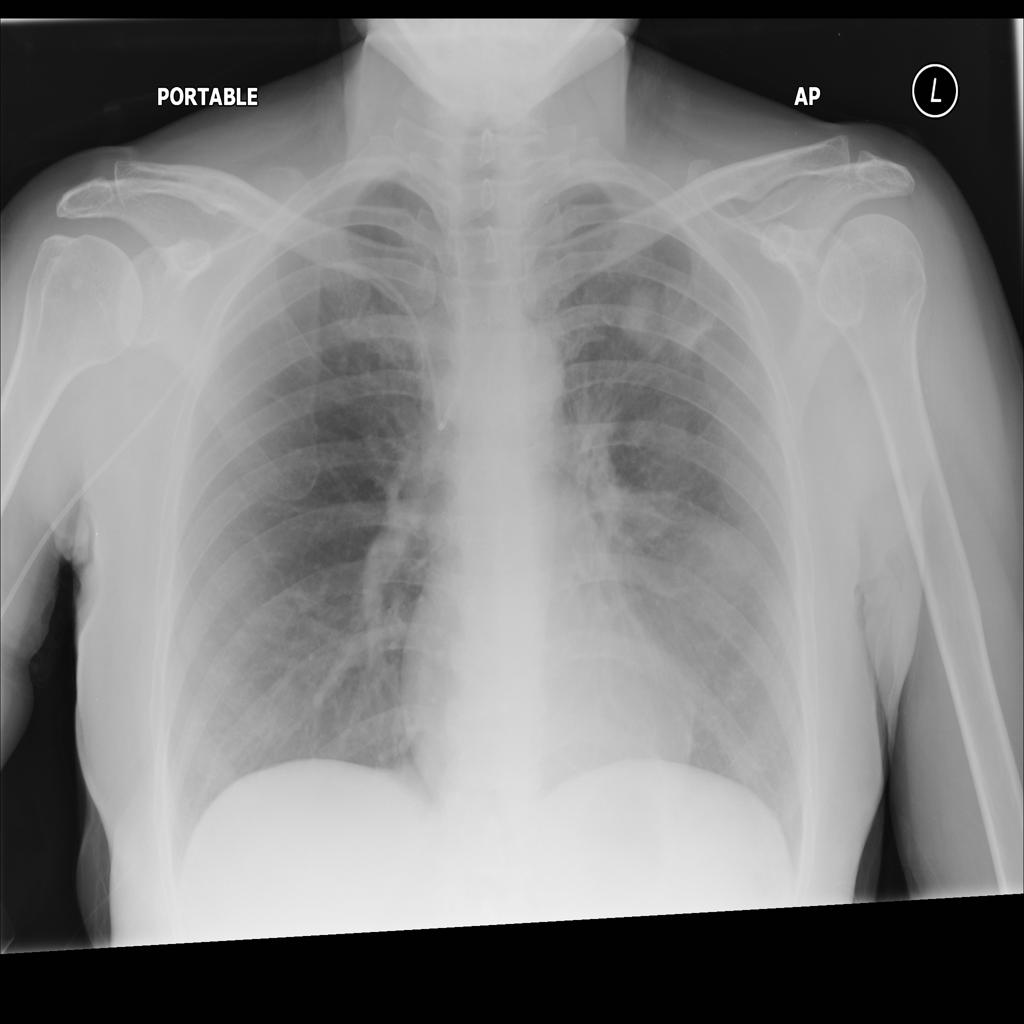nodule: (611, 258, 730, 373)
